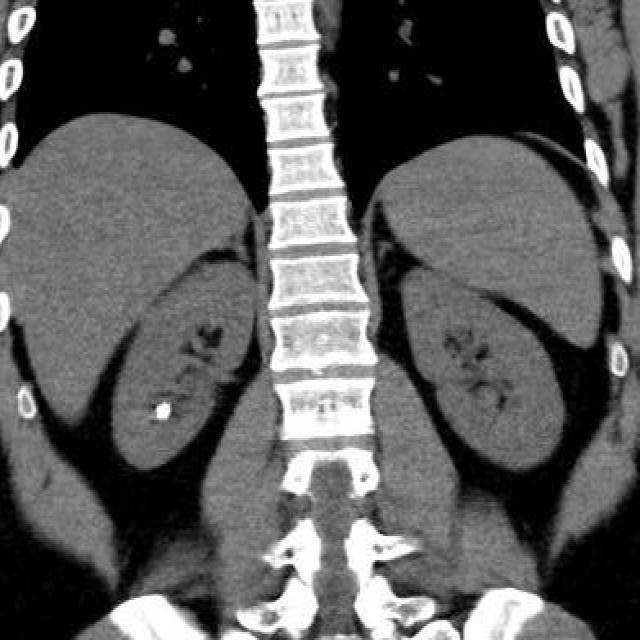Tas_Var: (155, 399, 174, 423)
